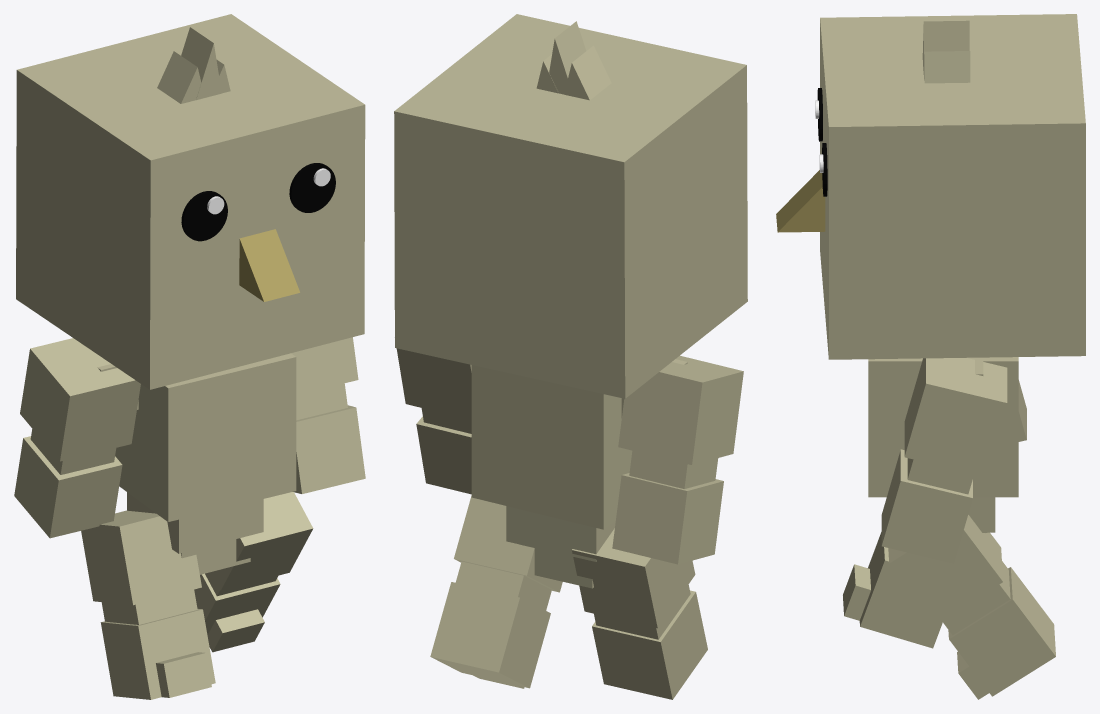
Rendered from BoneDummy_WithTexture.fbx.
The picture shows the model from 3 angles, left to right: view 1: azimuth 30°, elevation 25°; view 2: azimuth 150°, elevation 25°; view 3: azimuth 270°, elevation 25°; orthographic projection. The views are drawn at different scales.
Visible parts, largest first — view 1: Head, Spine02, UpperArm.R, Thigh.R, Foot.R, Hand.R, Hand.L, Thigh.L, Foot.L, Spine01, UpperArm.L, Calf.R (+5 smaller); view 2: Head, Spine02, UpperArm.R, Foot.L, Hand.R, Foot.R, Thigh.R, Thigh.L, UpperArm.L, Spine01, Hand.L, ForeArm.R (+4 smaller); view 3: Head, UpperArm.L, Spine02, Foot.L, Hand.L, Thigh.L, Foot.R, Calf.L, ForeArm.L, Spine01.
Boxes of the visible parts, bbox=[...] form: Head: bbox=[16, 14, 365, 389]; Spine02: bbox=[115, 353, 296, 521]; UpperArm.R: bbox=[20, 338, 140, 461]; Thigh.R: bbox=[81, 510, 201, 605]; Foot.R: bbox=[100, 609, 215, 699]; Hand.R: bbox=[14, 436, 122, 538]; Hand.L: bbox=[293, 405, 365, 493]; Thigh.L: bbox=[211, 492, 313, 590]; Foot.L: bbox=[194, 573, 280, 652]; Spine01: bbox=[127, 492, 263, 553]; UpperArm.L: bbox=[291, 337, 358, 394]; Calf.R: bbox=[101, 589, 197, 624]; Head: bbox=[394, 14, 747, 398]; Spine02: bbox=[471, 365, 632, 529]; UpperArm.R: bbox=[618, 355, 743, 464]; Foot.L: bbox=[430, 582, 550, 688]; Hand.R: bbox=[612, 473, 723, 564]; Foot.R: bbox=[592, 590, 707, 699]; Thigh.R: bbox=[572, 528, 695, 628]; Thigh.L: bbox=[454, 496, 562, 592]; UpperArm.L: bbox=[396, 348, 471, 419]; Spine01: bbox=[506, 506, 615, 561]; Hand.L: bbox=[416, 416, 471, 494]; ForeArm.R: bbox=[629, 450, 718, 488]; Head: bbox=[776, 14, 1085, 359]; UpperArm.L: bbox=[904, 358, 1007, 476]; Spine02: bbox=[868, 357, 1018, 497]; Foot.L: bbox=[948, 567, 1055, 699]; Hand.L: bbox=[881, 449, 972, 563]; Thigh.L: bbox=[888, 515, 1003, 624]; Foot.R: bbox=[843, 532, 942, 648]; Calf.L: bbox=[942, 561, 1010, 635]; ForeArm.L: bbox=[907, 458, 974, 494]; Spine01: bbox=[968, 497, 995, 532].
Size of the model in its own units: 263 by 554 by 241.
